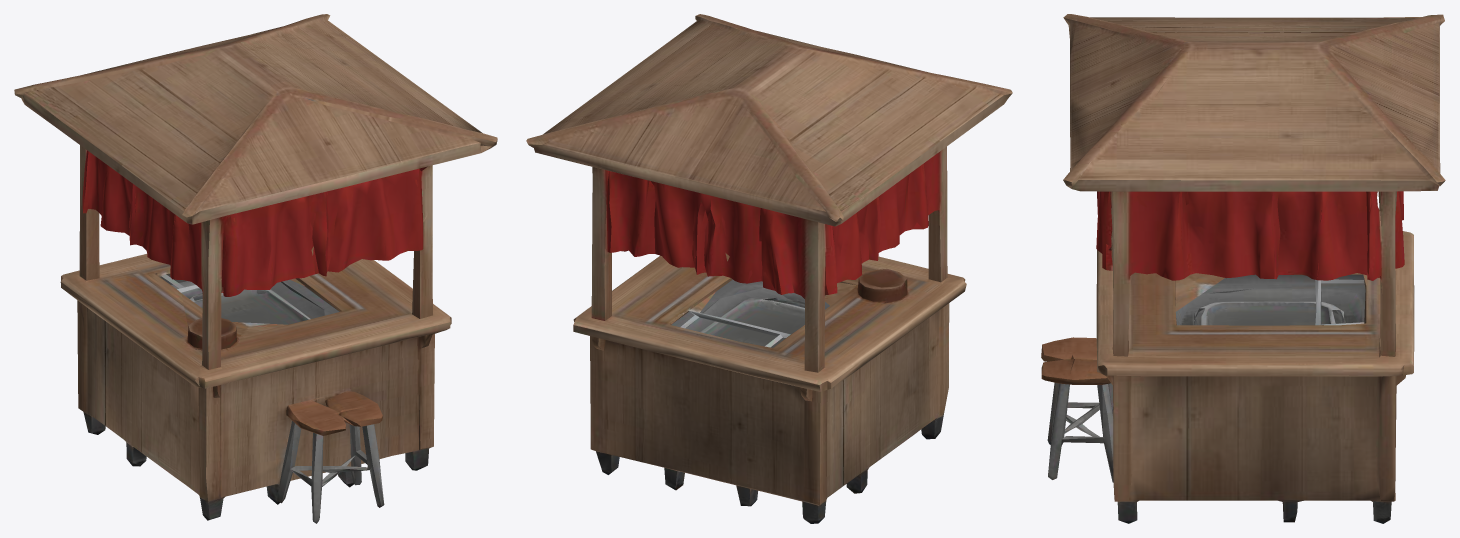
Rendered from yatai.glb.
3 renders of one model, left to right at view 1: azimuth 30°, elevation 25°; view 2: azimuth 150°, elevation 25°; view 3: azimuth 270°, elevation 25°, orthographic. The views are drawn at different scales.
Parts seen in each view (by area): view 1: yatai; view 2: yatai; view 3: yatai.
Boxes of the visible parts, x1,y1,x2,y2 form: yatai: [14, 14, 497, 523]; yatai: [526, 14, 1012, 523]; yatai: [1041, 14, 1445, 523].
Size of the model in its own units: 2.14 by 2.5 by 2.17.
1 material, 1 textured.
